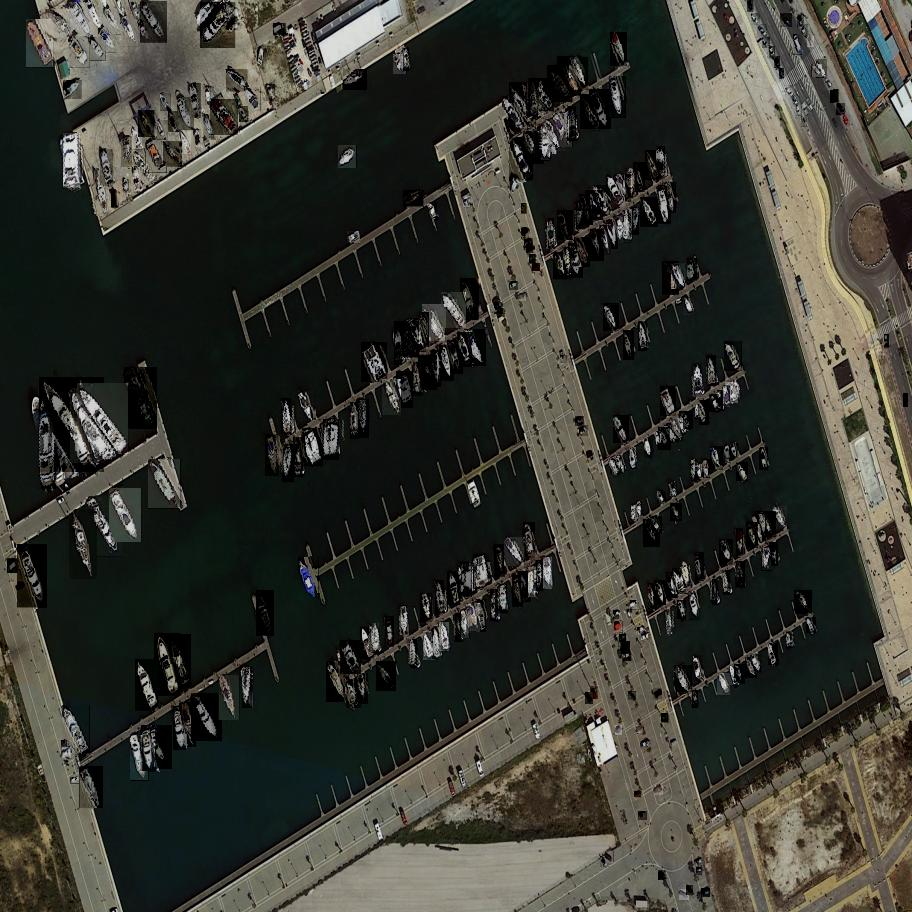large-vehicle: (816, 60, 830, 78), (792, 34, 802, 55), (273, 24, 289, 37), (6, 560, 20, 574)
ship: (37, 377, 107, 472), (75, 383, 132, 455), (69, 387, 111, 463), (85, 497, 123, 557), (15, 544, 49, 608), (123, 367, 158, 429), (69, 509, 99, 579), (197, 2, 241, 48), (108, 488, 144, 542), (147, 460, 183, 510), (154, 633, 182, 697), (191, 693, 224, 741), (61, 705, 92, 756), (26, 19, 56, 68), (41, 391, 56, 489), (134, 660, 161, 711), (141, 726, 173, 769), (509, 82, 538, 127), (138, 1, 169, 43), (170, 635, 193, 689), (359, 342, 389, 382), (67, 2, 96, 43), (209, 99, 242, 135), (508, 137, 534, 181), (546, 65, 575, 103), (325, 662, 351, 703), (393, 321, 421, 359), (79, 767, 104, 809), (298, 558, 322, 601), (556, 57, 582, 96), (501, 96, 529, 132), (440, 292, 468, 328), (588, 89, 613, 129), (421, 305, 448, 342), (219, 675, 241, 720), (528, 78, 556, 112), (301, 428, 325, 467), (63, 133, 80, 188), (45, 9, 77, 38), (462, 330, 487, 367), (460, 279, 482, 321), (132, 151, 159, 184), (579, 95, 604, 130), (130, 736, 149, 782), (256, 590, 275, 636), (67, 36, 93, 68), (541, 120, 567, 152), (338, 641, 362, 674), (145, 140, 169, 173), (417, 356, 439, 391), (180, 702, 197, 747), (609, 76, 627, 118), (381, 379, 402, 415), (552, 114, 574, 148), (568, 57, 590, 91), (296, 390, 317, 425), (503, 537, 527, 567), (374, 661, 398, 691), (523, 132, 545, 164), (395, 371, 414, 408), (323, 419, 340, 460), (606, 175, 627, 208), (94, 169, 109, 215), (408, 318, 428, 352), (142, 725, 156, 772), (585, 190, 606, 221), (610, 32, 629, 66), (662, 261, 681, 295), (473, 554, 491, 589), (177, 97, 196, 130), (224, 69, 251, 92), (120, 16, 140, 47), (755, 511, 777, 539), (640, 197, 660, 227), (342, 69, 369, 91), (96, 28, 119, 53), (266, 435, 280, 476), (659, 386, 678, 416), (102, 8, 123, 35), (447, 341, 464, 374), (568, 243, 584, 278), (439, 346, 455, 381), (674, 665, 694, 693), (173, 707, 186, 750), (337, 146, 360, 170), (724, 342, 743, 371), (161, 142, 183, 167), (593, 186, 611, 216), (573, 237, 591, 267), (138, 110, 157, 138), (457, 332, 472, 367), (616, 174, 634, 203), (644, 151, 662, 180), (346, 679, 364, 708), (100, 150, 114, 187), (360, 628, 376, 660), (447, 572, 462, 606), (557, 211, 574, 241), (659, 185, 672, 224), (613, 416, 631, 444), (603, 304, 621, 332), (794, 590, 814, 615), (579, 195, 595, 226), (642, 520, 660, 547), (590, 229, 605, 261), (523, 522, 536, 558), (466, 603, 482, 632), (752, 514, 767, 544), (671, 568, 688, 594), (89, 38, 108, 61), (62, 80, 85, 99), (518, 571, 532, 602), (664, 182, 678, 213), (244, 87, 262, 111), (283, 444, 294, 483), (670, 264, 687, 289), (719, 539, 735, 565), (771, 507, 788, 531), (358, 400, 369, 437), (553, 253, 568, 280), (633, 162, 646, 192), (599, 226, 612, 256), (294, 438, 304, 477), (402, 191, 426, 207), (666, 572, 680, 599), (420, 594, 433, 623), (512, 576, 524, 607), (357, 673, 369, 704), (746, 522, 760, 548), (461, 563, 472, 596), (476, 599, 487, 632), (623, 330, 635, 360), (494, 545, 505, 577), (242, 668, 251, 707), (192, 83, 202, 118), (606, 220, 618, 249), (121, 136, 132, 167), (423, 632, 435, 660), (710, 447, 724, 471), (689, 592, 701, 620), (657, 428, 672, 450), (654, 580, 667, 605), (283, 398, 292, 434), (669, 418, 683, 441), (663, 423, 679, 443), (529, 82, 538, 117), (724, 382, 739, 403), (179, 132, 192, 156), (707, 355, 717, 386), (716, 674, 730, 696), (541, 126, 550, 160), (392, 55, 408, 74), (692, 656, 704, 681), (436, 581, 445, 614), (394, 328, 402, 365), (744, 657, 758, 678), (750, 654, 764, 675), (439, 622, 449, 651), (681, 561, 691, 590), (432, 627, 441, 659), (639, 323, 649, 351), (695, 553, 705, 581), (543, 558, 552, 589), (204, 114, 215, 139), (699, 400, 710, 425), (131, 129, 144, 150), (528, 567, 537, 597), (461, 611, 471, 638), (385, 617, 394, 647), (400, 606, 409, 636), (679, 411, 694, 429), (736, 462, 750, 481), (157, 120, 169, 142), (622, 209, 630, 242), (736, 562, 746, 588), (768, 643, 779, 666), (168, 111, 180, 132), (648, 584, 658, 609), (433, 351, 440, 386), (422, 312, 429, 347), (769, 543, 779, 567), (670, 503, 683, 521), (708, 394, 721, 412), (569, 107, 576, 140), (615, 456, 626, 477), (688, 258, 698, 281), (762, 548, 772, 571), (734, 665, 746, 684), (658, 146, 665, 178), (414, 363, 421, 395), (237, 106, 251, 122), (651, 516, 664, 533), (491, 590, 498, 621), (694, 364, 701, 395), (500, 585, 508, 612), (577, 202, 585, 229), (536, 561, 543, 591), (351, 403, 357, 438), (564, 248, 571, 278), (258, 45, 268, 66), (346, 232, 362, 245), (609, 459, 622, 475), (759, 447, 768, 470), (160, 94, 172, 111), (372, 623, 379, 652), (729, 666, 739, 686), (628, 168, 635, 196), (733, 380, 742, 401), (684, 298, 695, 315), (736, 529, 743, 555), (645, 438, 654, 458), (676, 601, 686, 619), (266, 85, 277, 101), (724, 570, 731, 595), (429, 202, 439, 219), (455, 614, 461, 642), (629, 447, 636, 471), (548, 219, 554, 247), (723, 386, 731, 407), (805, 618, 816, 633), (617, 216, 623, 243), (633, 208, 639, 234), (703, 459, 711, 478), (730, 443, 739, 459), (656, 491, 667, 504), (411, 640, 416, 667), (403, 49, 409, 71), (666, 610, 671, 636), (205, 87, 212, 105), (725, 445, 732, 463), (135, 168, 140, 192), (697, 465, 705, 480), (637, 501, 644, 518), (692, 691, 699, 707), (691, 461, 696, 483), (196, 130, 201, 151), (717, 390, 722, 410), (713, 580, 717, 604), (656, 431, 662, 446), (297, 64, 305, 75), (141, 24, 146, 40), (679, 415, 683, 434), (671, 482, 676, 497), (123, 180, 129, 192), (112, 191, 116, 207), (632, 505, 636, 521), (787, 632, 791, 648), (696, 405, 699, 418), (304, 82, 307, 90)
small-vehicle: (780, 13, 793, 27), (811, 64, 824, 78), (824, 75, 835, 90), (61, 747, 74, 759), (613, 622, 626, 634), (578, 425, 591, 437), (757, 25, 769, 38), (785, 86, 797, 99), (605, 851, 617, 863), (621, 642, 632, 655), (677, 890, 690, 901), (652, 688, 664, 699), (494, 302, 505, 314), (521, 227, 532, 239), (836, 103, 847, 115), (751, 13, 762, 25), (830, 89, 840, 102), (600, 856, 611, 867), (523, 238, 535, 248), (585, 692, 594, 705), (590, 686, 598, 700), (637, 627, 648, 637), (574, 417, 585, 427), (658, 870, 668, 881), (762, 37, 772, 48), (637, 812, 649, 821), (842, 115, 850, 128), (801, 25, 809, 38), (628, 600, 638, 610), (661, 714, 671, 724), (640, 741, 651, 750), (694, 858, 705, 867), (701, 889, 712, 898), (686, 885, 695, 896), (634, 725, 645, 734), (653, 786, 664, 795), (509, 281, 520, 290), (628, 691, 638, 700), (612, 611, 622, 620), (528, 255, 538, 264), (615, 726, 625, 735), (531, 264, 542, 272), (769, 47, 777, 58), (797, 15, 804, 27), (464, 200, 473, 209), (526, 245, 535, 254), (618, 634, 628, 642), (807, 37, 814, 48), (790, 5, 798, 14), (748, 1, 754, 13), (774, 56, 780, 68), (903, 393, 908, 407), (521, 203, 528, 213), (801, 117, 808, 127), (796, 106, 803, 116), (61, 741, 69, 749), (696, 868, 704, 876), (586, 451, 595, 458), (624, 653, 631, 661), (518, 294, 526, 301), (885, 334, 889, 347), (793, 96, 798, 106), (642, 634, 649, 641), (72, 777, 79, 783), (779, 69, 783, 79), (560, 356, 566, 362), (635, 792, 641, 797)
